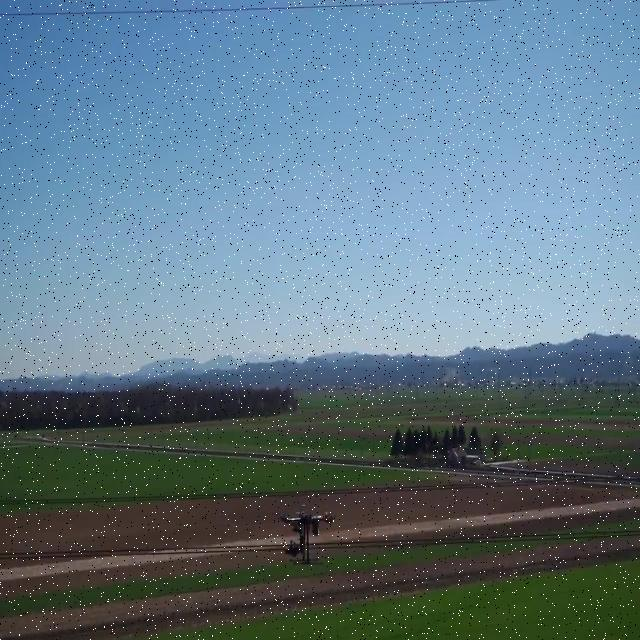UAV: (272, 504, 336, 564)
